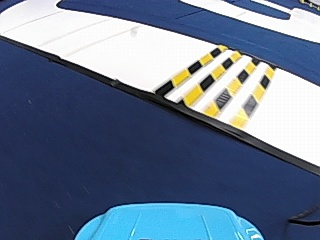bump: (158, 42, 271, 119)
